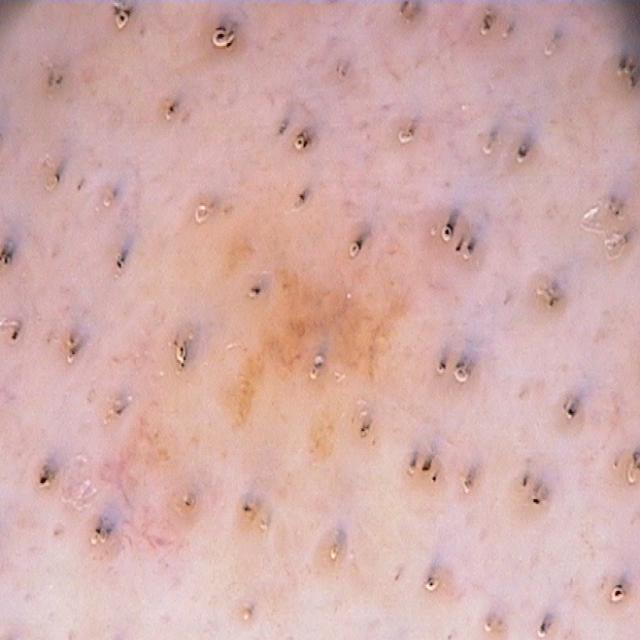Melanoma: (208, 146, 559, 559), (0, 420, 181, 640), (591, 154, 640, 395)
